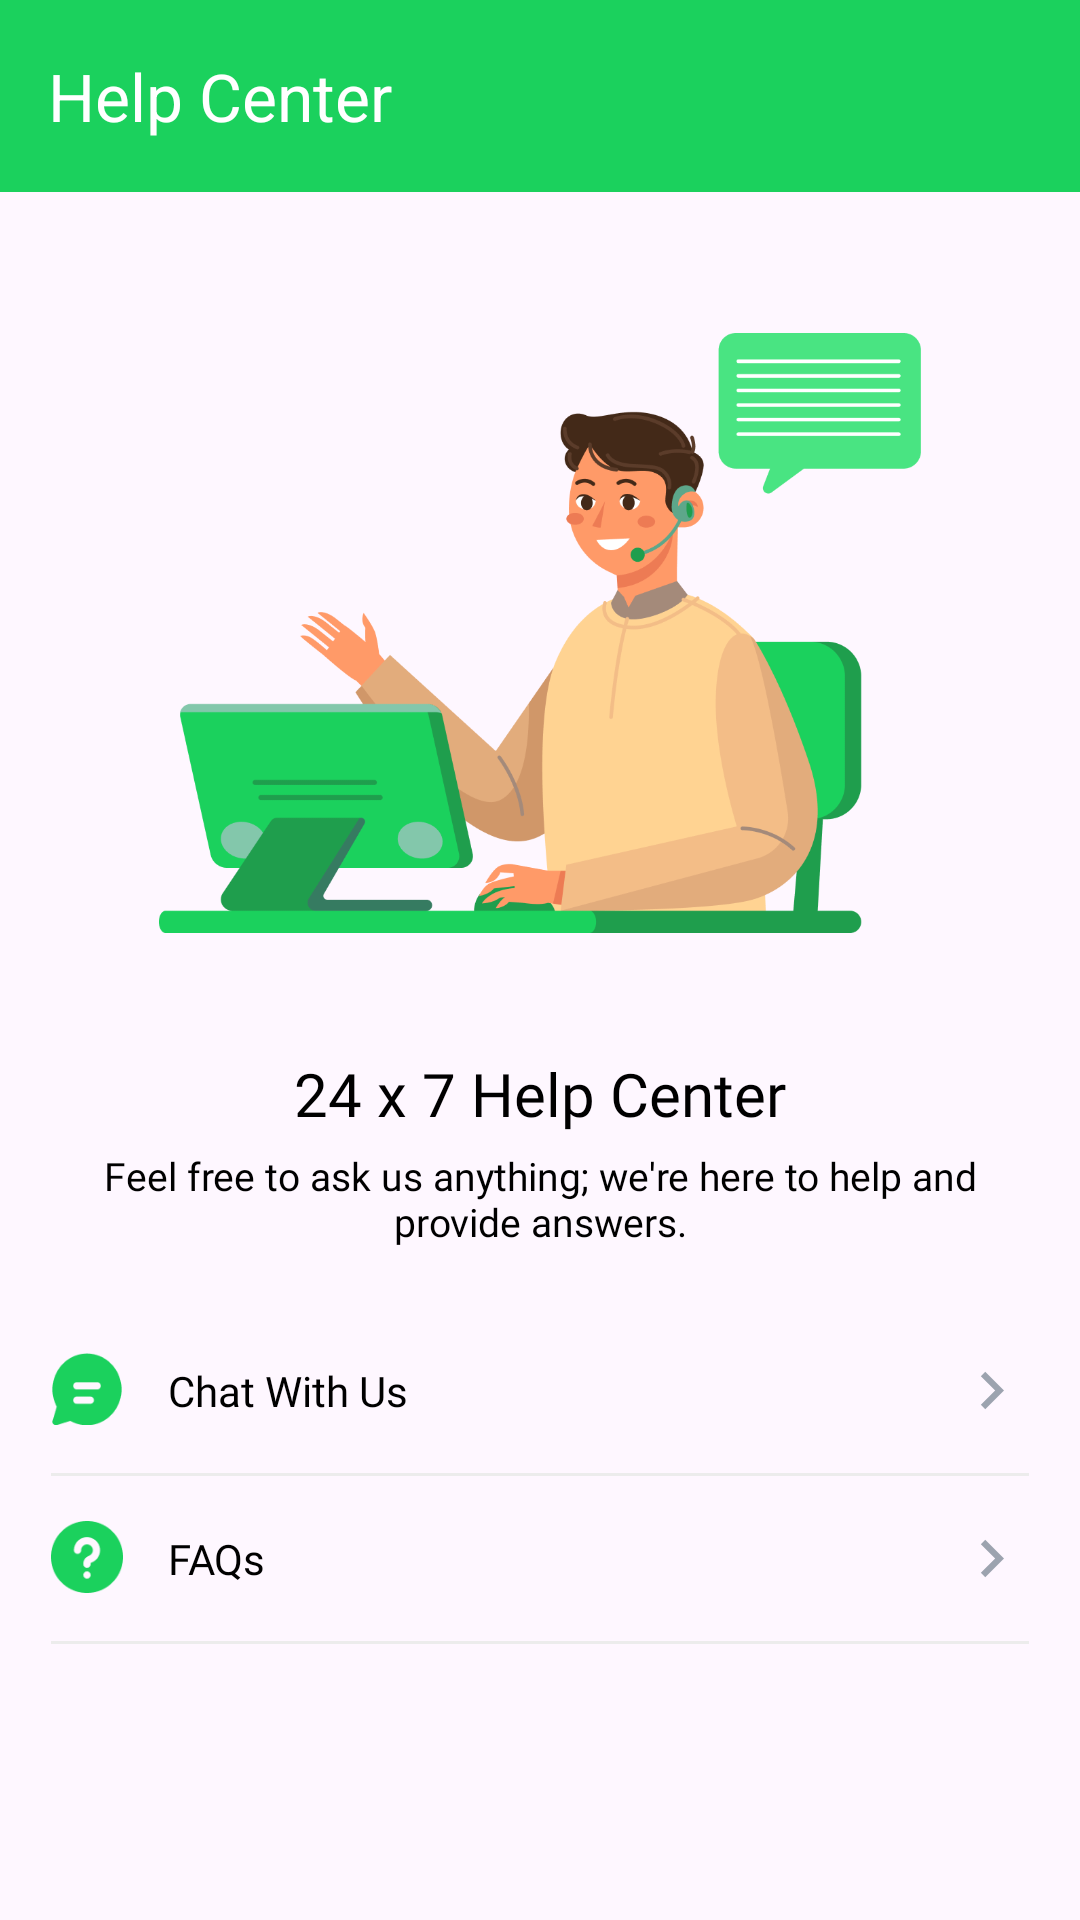

Named icons in this screenshot (1080×1920) and their centers, [x,y]:
keyboard arrow right: [992,1390], [992,1558]
